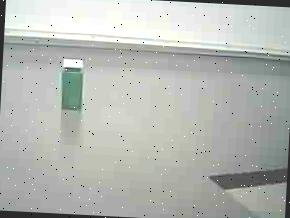Bottle C: (54, 53, 90, 117)
